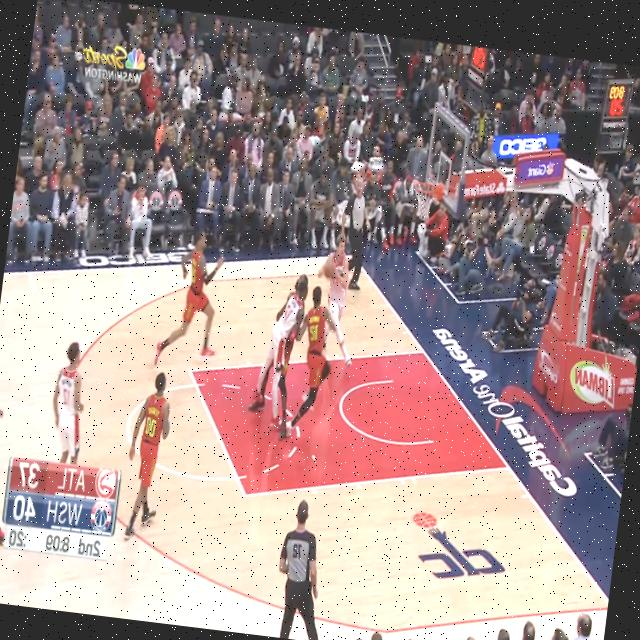foul: (230, 248, 318, 451)
no foul: (296, 233, 364, 442)
